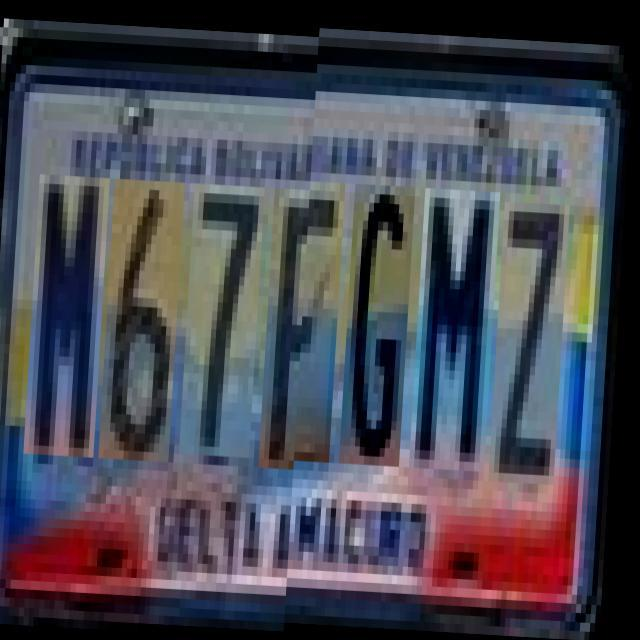6: (104, 168, 188, 451)
7: (185, 172, 268, 446)
F: (264, 175, 348, 458)
G: (344, 179, 418, 462)
M: (414, 182, 502, 466), (29, 165, 112, 448)
Z: (494, 195, 572, 478)
